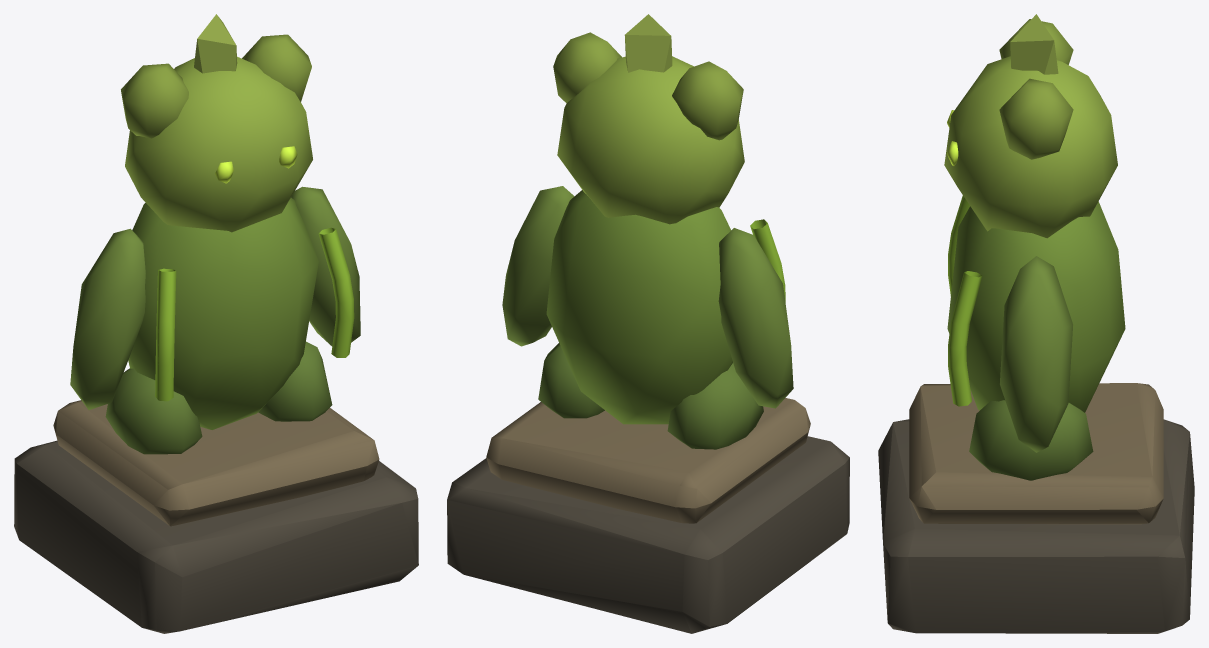
Rendered from rotten-idol.glb.
3 views of the same model, side by side, from view 1: azimuth 30°, elevation 25°; view 2: azimuth 150°, elevation 25°; view 3: azimuth 270°, elevation 25° (orthographic). The views are drawn at different scales.
Visible parts, largest first — view 1: cracked biscuit base, idol torso, upper biscuit step, idol head, idol arm, bear foot, idol arm.001, bear ear, bear foot.001, bear ear.001, mould syrup, mould syrup.001 (+1 smaller); view 2: cracked biscuit base, idol torso, upper biscuit step, idol head, idol arm, idol arm.001, bear foot, bear ear, bear ear.001, bear foot.001, idol shard, mould syrup; view 3: cracked biscuit base, upper biscuit step, idol head, idol torso, idol arm.001, bear foot.001, bear ear.001, mould syrup.001, idol shard, bear ear, mould syrup.
Boxes of the visible parts, x1,y1,x2,y2 form: cracked biscuit base: (14, 440, 418, 633); idol torso: (128, 197, 318, 429); upper biscuit step: (53, 400, 379, 526); idol head: (125, 56, 312, 232); idol arm: (70, 228, 145, 409); bear foot: (105, 368, 202, 454); idol arm.001: (291, 186, 360, 346); bear ear: (121, 63, 188, 138); bear foot.001: (258, 341, 332, 421); bear ear.001: (242, 34, 311, 101); mould syrup: (155, 268, 176, 401); mould syrup.001: (318, 227, 354, 357); cracked biscuit base: (447, 436, 849, 633); idol torso: (546, 190, 732, 424); upper biscuit step: (486, 398, 810, 523); idol head: (557, 56, 744, 224); idol arm: (718, 228, 793, 408); idol arm.001: (502, 186, 574, 346); bear foot: (667, 363, 763, 449); bear ear: (672, 61, 743, 140); bear ear.001: (553, 32, 621, 102); bear foot.001: (538, 343, 604, 418); idol shard: (624, 14, 672, 72); mould syrup: (750, 219, 785, 302); cracked biscuit base: (878, 419, 1194, 633); upper biscuit step: (909, 383, 1163, 524); idol head: (944, 56, 1117, 238); idol torso: (947, 201, 1125, 412); idol arm.001: (1000, 256, 1072, 452); bear foot.001: (969, 400, 1093, 480); bear ear.001: (999, 78, 1073, 159); mould syrup.001: (948, 271, 982, 406); idol shard: (1010, 14, 1058, 74); bear ear: (999, 19, 1073, 64); mould syrup: (948, 195, 969, 296).
Bounding box in the file's own units: 0.3216 × 0.59 × 0.3.
